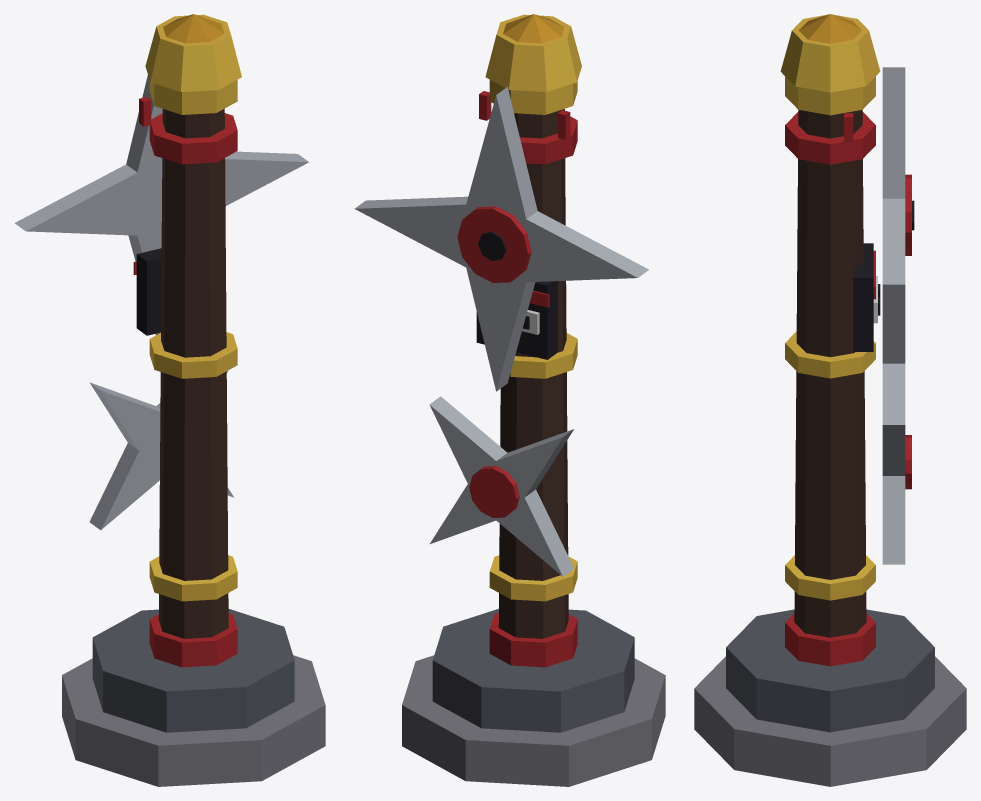
File: Decor_NinjaDojo_Totem.fbx
The picture shows the model from 3 angles, left to right: view 1: azimuth 30°, elevation 25°; view 2: azimuth 150°, elevation 25°; view 3: azimuth 270°, elevation 25°; orthographic projection.
Visible parts, largest first — view 1: Totem_Body; view 2: Totem_Body; view 3: Totem_Body.
Part boxes in pixels (left/top/right/bottom): Totem_Body: left=14, top=14, right=325, bottom=786; Totem_Body: left=354, top=14, right=665, bottom=786; Totem_Body: left=694, top=14, right=966, bottom=786.
Size of the model in its own units: 7.2 by 17.4 by 6.
